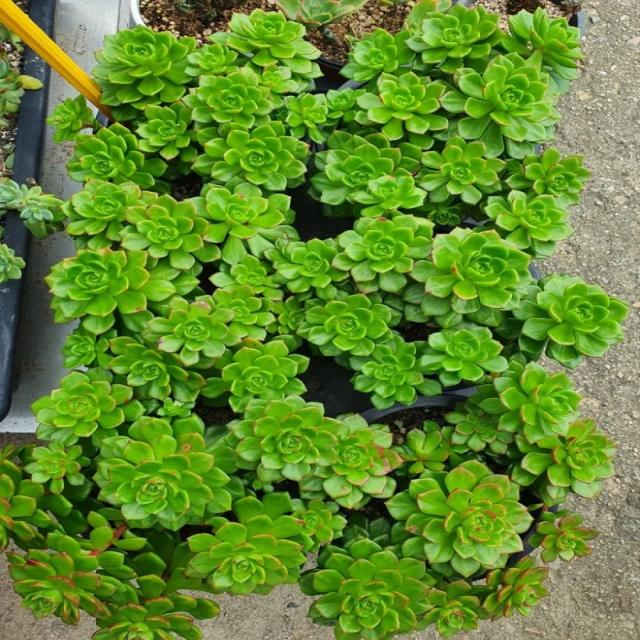Letizia: (387, 460, 532, 577), (93, 415, 233, 530), (185, 492, 313, 594), (300, 540, 430, 640), (403, 228, 532, 328), (442, 52, 559, 158), (447, 362, 582, 453), (45, 248, 177, 333), (514, 274, 629, 367), (93, 26, 197, 121), (232, 395, 342, 481), (32, 369, 145, 446), (192, 121, 308, 191), (332, 215, 434, 292), (202, 340, 308, 412), (210, 9, 320, 78), (120, 195, 220, 270), (355, 71, 449, 148), (142, 298, 240, 366), (407, 5, 504, 73), (108, 336, 205, 402), (297, 291, 393, 356), (485, 190, 574, 258), (419, 136, 505, 204), (420, 326, 509, 386), (484, 556, 549, 619), (340, 29, 415, 82), (348, 169, 427, 218), (529, 510, 599, 562), (23, 441, 90, 493), (210, 254, 283, 301), (47, 95, 100, 142)
